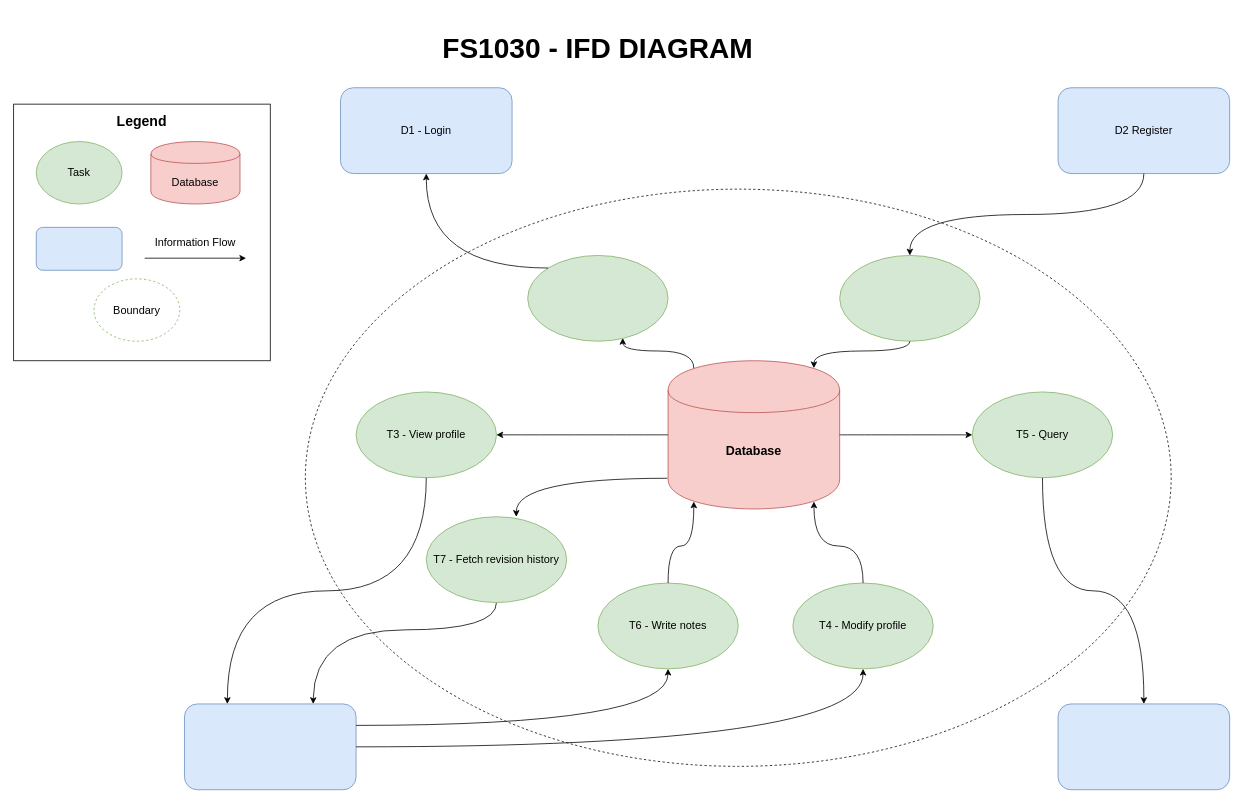
This 1243x803 diagram has some shape labels left out. Here are the shapes that lost their labels. From the top down, the centre of each, then its label:
point (78, 248): Document
point (597, 298): T1 - Verify
point (909, 298): T2 - Register
point (270, 746): D3 - Profile
point (1143, 746): D4 - Search
